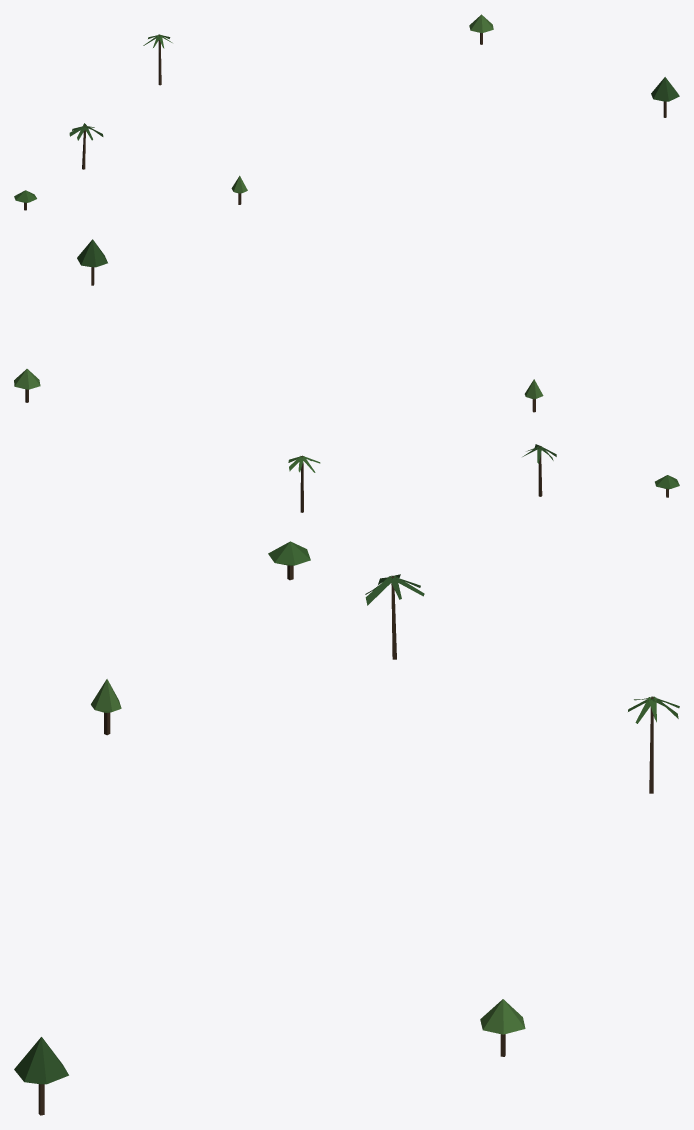
3 views of the same model, one above another, from view 1: azimuth 30°, elevation 25°; view 2: azimuth 150°, elevation 25°; view 3: azimuth 270°, elevation 25° (orthographic). The views are drawn at different scales.
Parts seen in each view (by area): view 1: Props_Foliage__r-1c4, Props_Solid__r-1c4-col; view 2: Props_Foliage__r-1c4, Props_Solid__r-1c4-col; view 3: Props_Foliage__r-1c4, Props_Solid__r-1c4-col.
Part boxes in pixels (left/top/right/bottom): Props_Foliage__r-1c4: left=14, top=14, right=679, bottom=202; Props_Solid__r-1c4-col: left=24, top=33, right=666, bottom=210; Props_Foliage__r-1c4: left=14, top=239, right=679, bottom=489; Props_Solid__r-1c4-col: left=25, top=267, right=668, bottom=512; Props_Foliage__r-1c4: left=14, top=541, right=679, bottom=1084; Props_Solid__r-1c4-col: left=38, top=565, right=653, bottom=1115.
Bounding box in the file's own units: 130 × 10.29 × 65.76.
